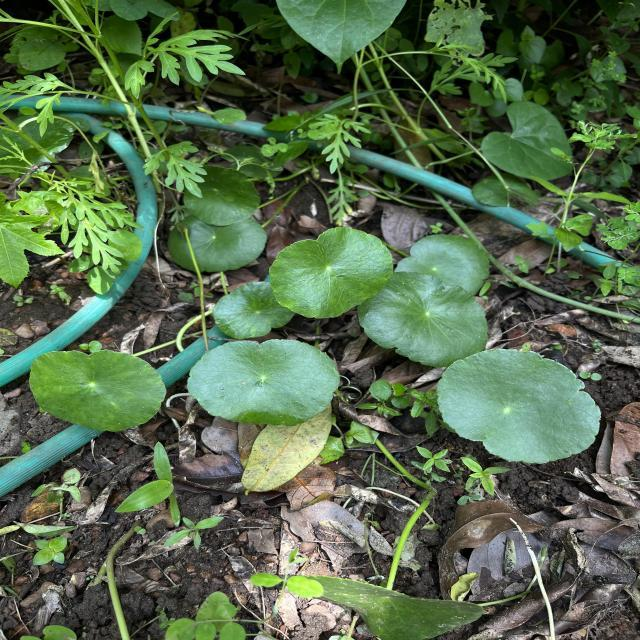Bacopa monnieri: (434, 347, 602, 465), (185, 338, 341, 427), (356, 270, 490, 368), (28, 348, 168, 434), (267, 226, 395, 320), (165, 213, 268, 274), (394, 232, 492, 296), (211, 280, 296, 340)
